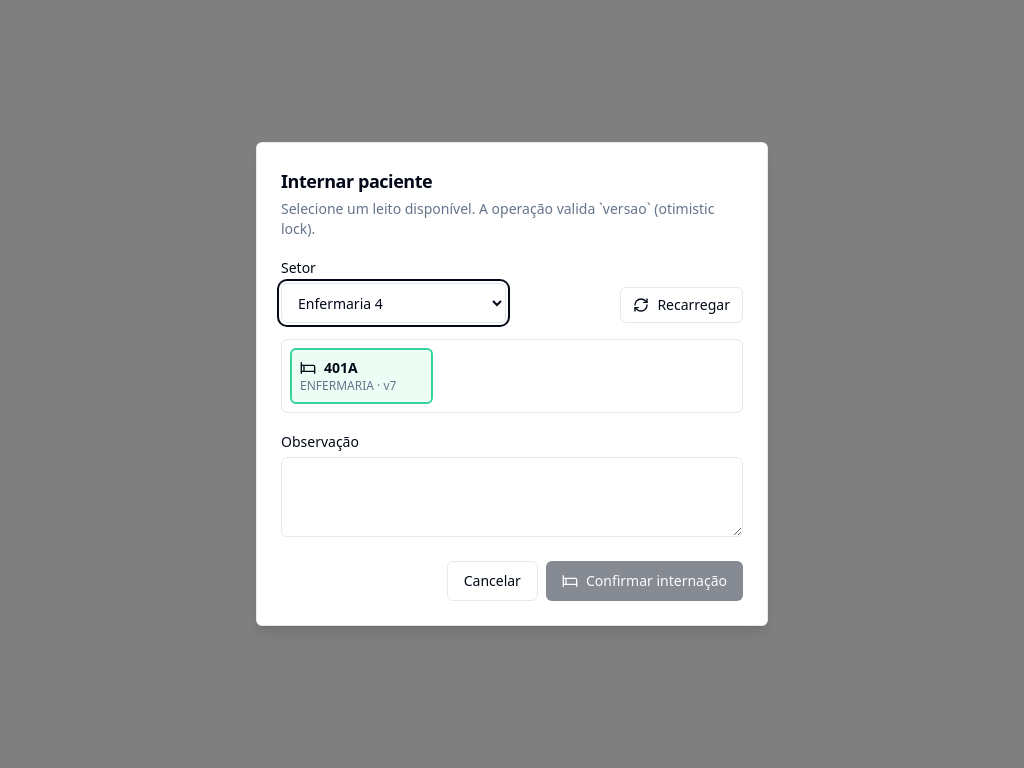
Test case: <InternarModal /> › em 409 (conflito) recarrega lista de leitos
Click the text "401A": click(329, 368) x1=300 y1=358 x2=358 y2=378
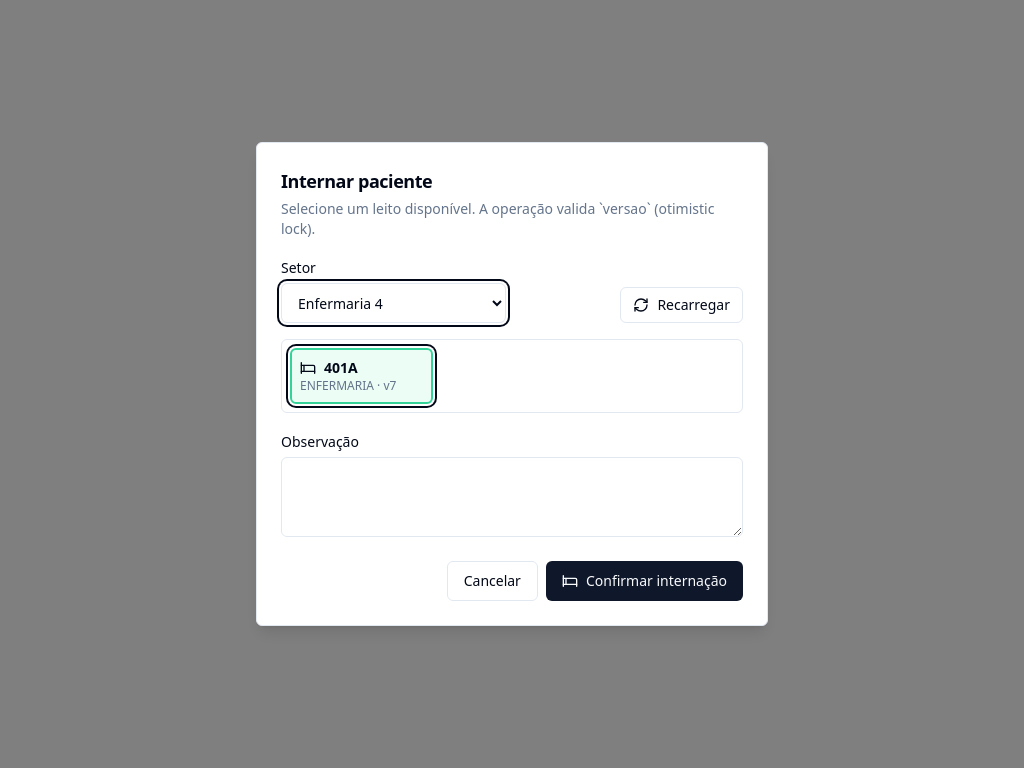
Click the button "Confirmar internação": click(644, 581) x1=546 y1=561 x2=743 y2=601
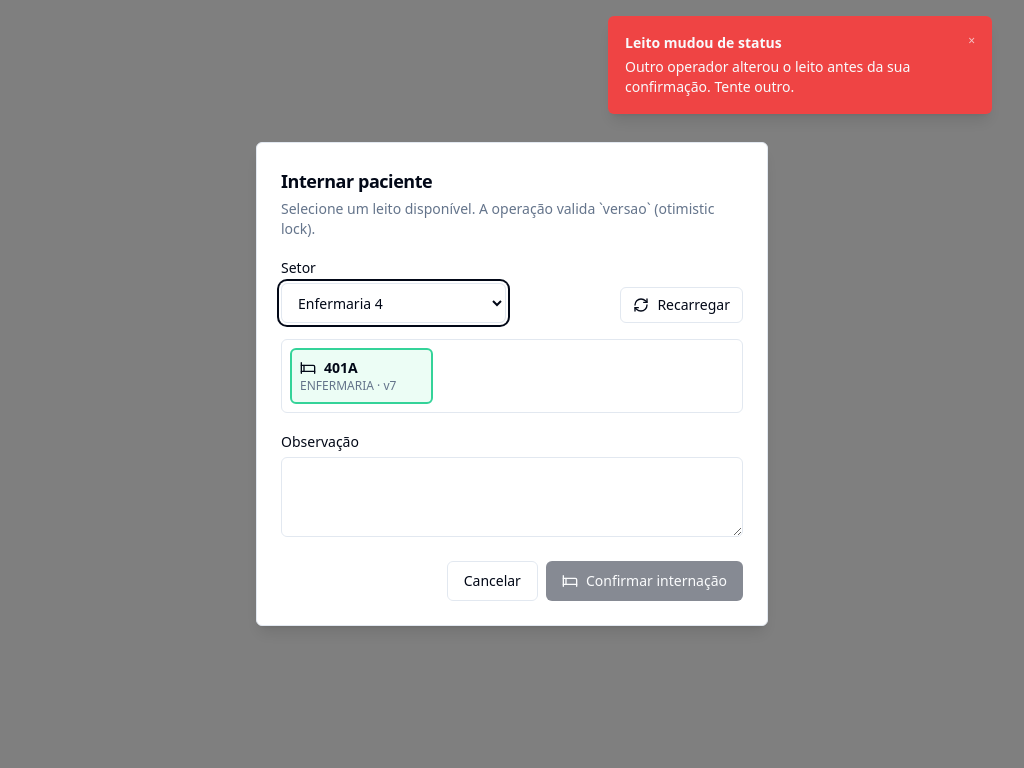
Expected: the text "Leito mudou de status" is shown, x1=625 y1=33 x2=782 y2=52
